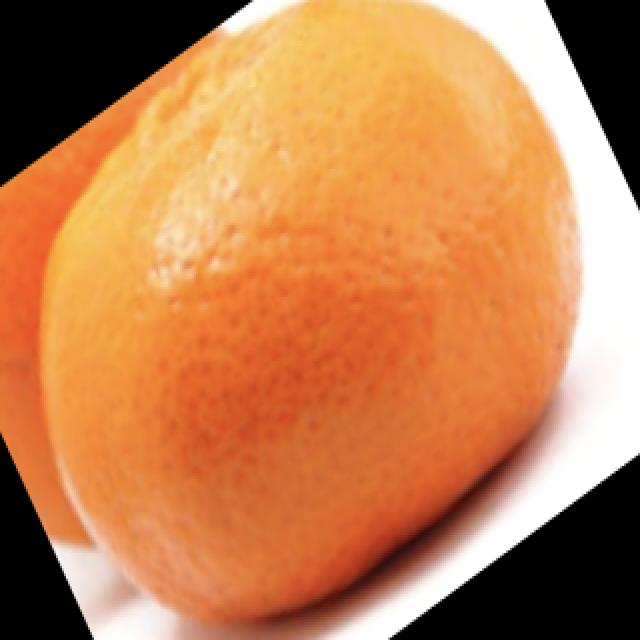matang: (48, 2, 566, 629), (2, 31, 240, 550)
